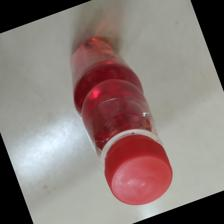Sting: (67, 35, 171, 207)
